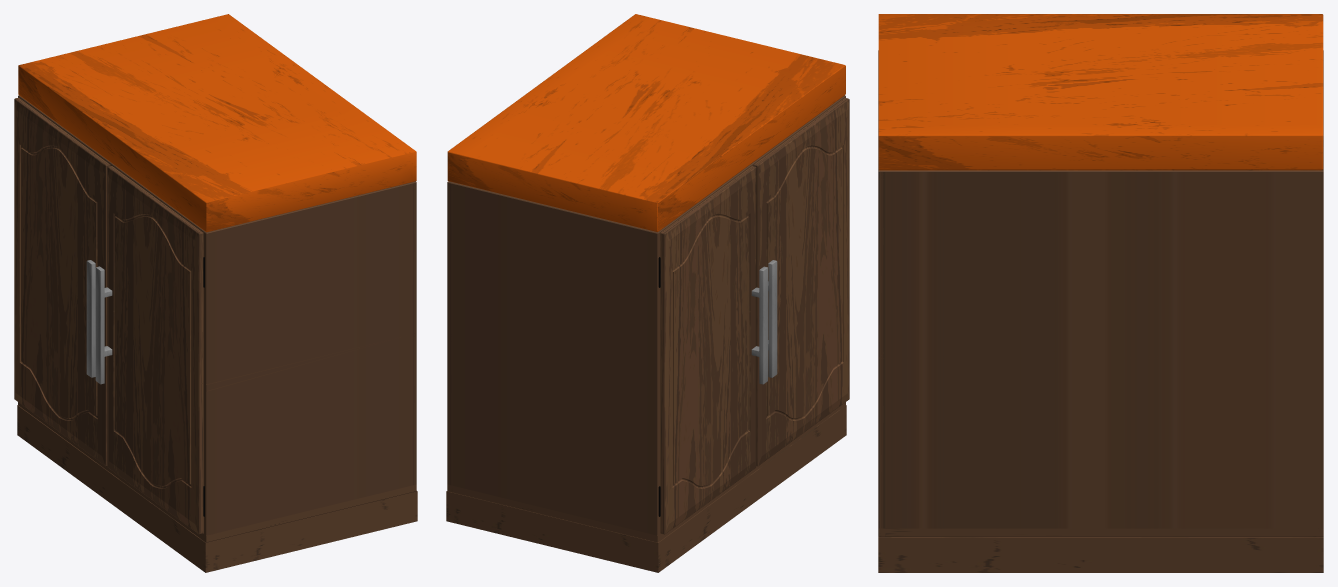
The model's file is bot - cab - Two door.fbx.
3 renders of one model, left to right at view 1: azimuth 30°, elevation 25°; view 2: azimuth 150°, elevation 25°; view 3: azimuth 270°, elevation 25°, orthographic. The views are drawn at different scales.
Visible parts, largest first — view 1: cabinet shell, cab - door left, cab - door left001; view 2: cabinet shell, cab - door left001, cab - door left; view 3: cabinet shell.
Boxes of the visible parts, x1,y1,x2,y2 form: cabinet shell: (17, 14, 417, 572); cab - door left: (95, 166, 203, 534); cab - door left001: (14, 97, 110, 466); cabinet shell: (446, 14, 846, 572); cab - door left001: (660, 166, 767, 534); cab - door left: (753, 98, 849, 466); cabinet shell: (878, 14, 1323, 572).
Bounding box in the file's own units: 106 × 163 × 150.
